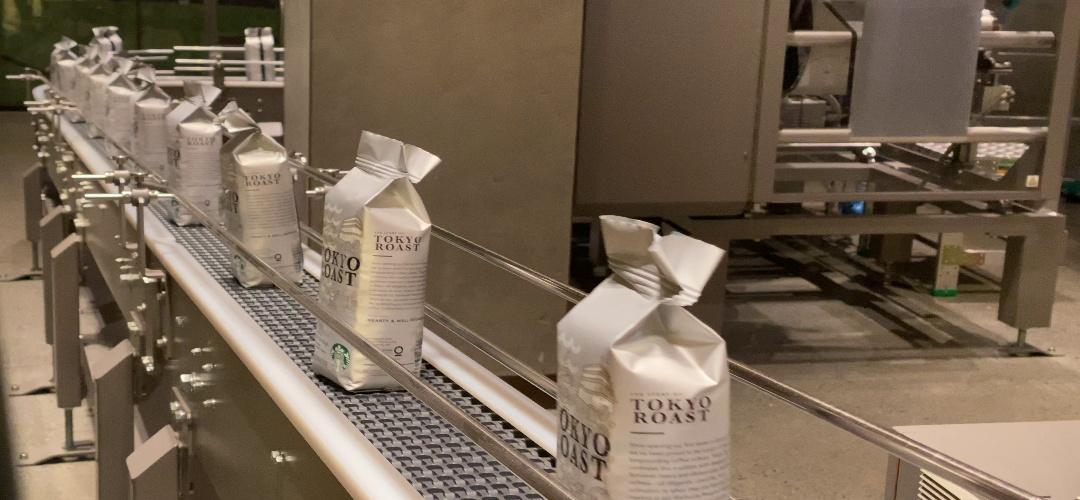conveyor: (555, 320, 731, 478), (324, 193, 424, 315), (224, 150, 301, 234)
